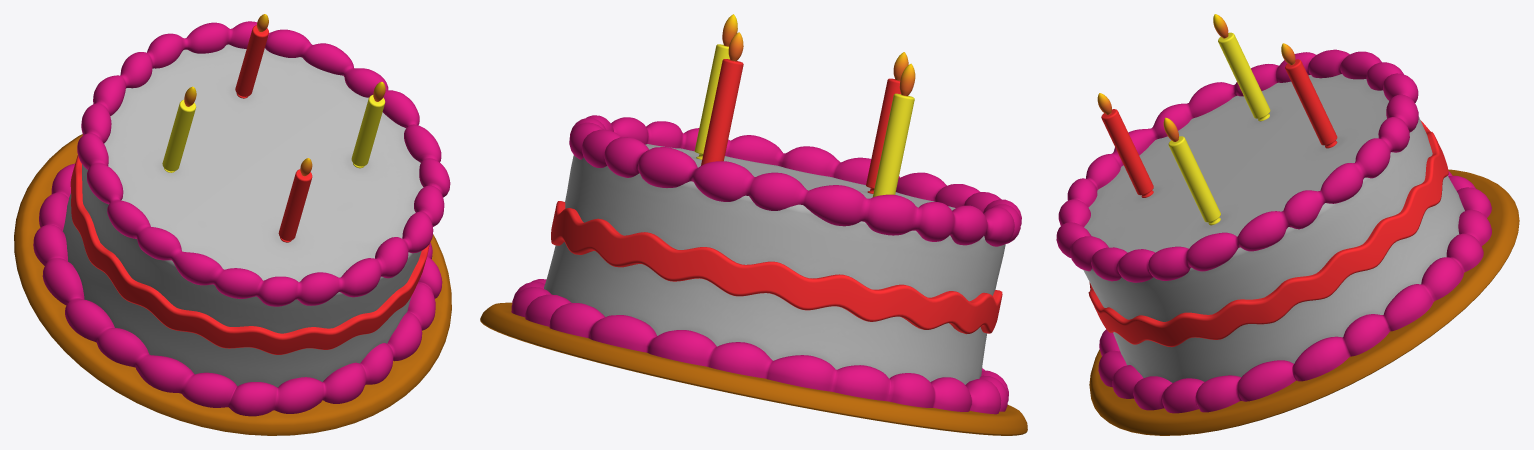
Rendered from cake8.glb.
3 views of the same model, side by side, from view 1: azimuth 30°, elevation 25°; view 2: azimuth 150°, elevation 25°; view 3: azimuth 270°, elevation 25° (orthographic). The views are drawn at different scales.
Visible parts, largest first — view 1: node_id179; view 2: node_id179; view 3: node_id179.
Part boxes in pixels (x1,y1,x2,y2): node_id179: (14,14,451,435); node_id179: (480,14,1027,435); node_id179: (1056,14,1519,435).
Bounding box in the file's own units: 0.512 × 0.4328 × 0.5063.
Materials: 1 (1 with a texture image).
